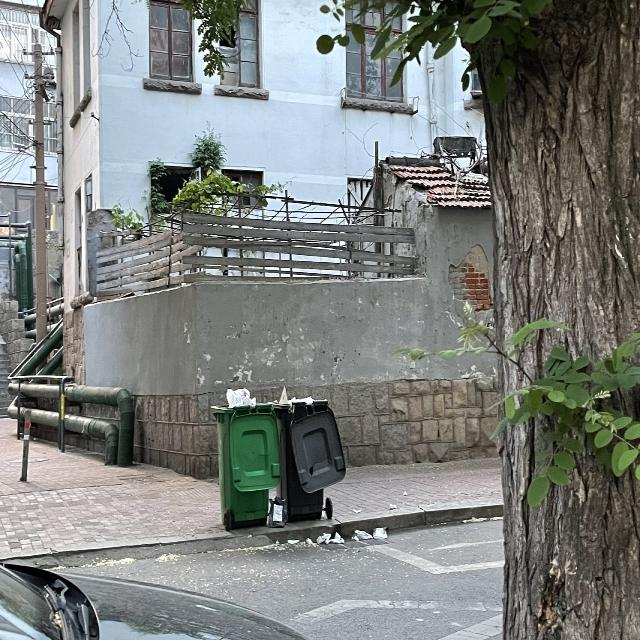garbage: (267, 496, 396, 544)
overflow: (267, 385, 345, 521), (210, 387, 279, 522)
